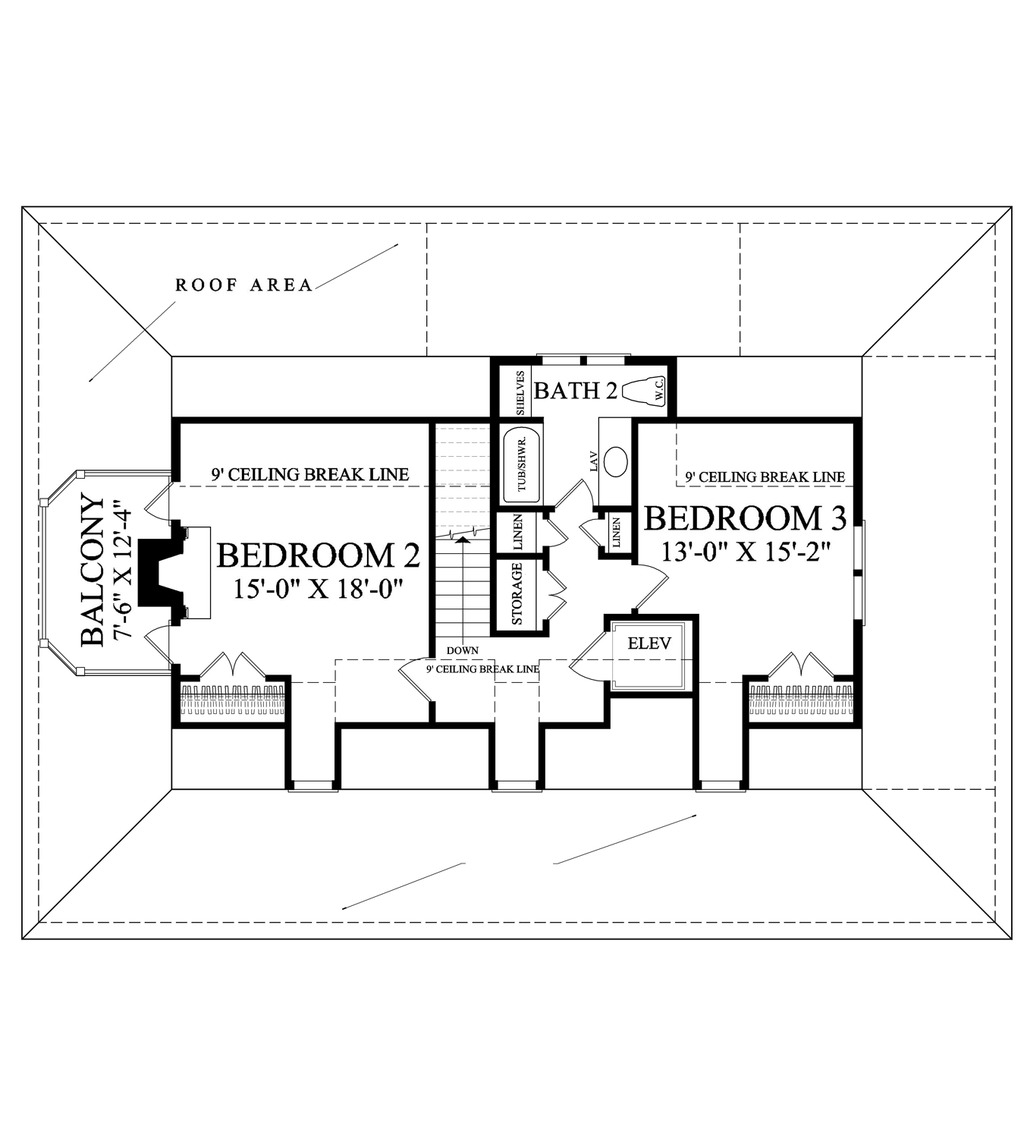door: (196, 646, 269, 686), (764, 647, 836, 685), (566, 628, 612, 686), (629, 555, 669, 617), (548, 475, 600, 519), (142, 474, 176, 529), (400, 655, 434, 704), (542, 567, 571, 623), (140, 619, 167, 671), (578, 514, 607, 559), (539, 512, 567, 550)
large_sink: (614, 373, 668, 415)
small_sink: (599, 417, 634, 503)
stairs: (426, 424, 495, 653)
tub: (498, 416, 545, 514)
window: (845, 520, 868, 631), (532, 347, 644, 367), (689, 772, 745, 796), (291, 776, 338, 799), (490, 775, 539, 796)
